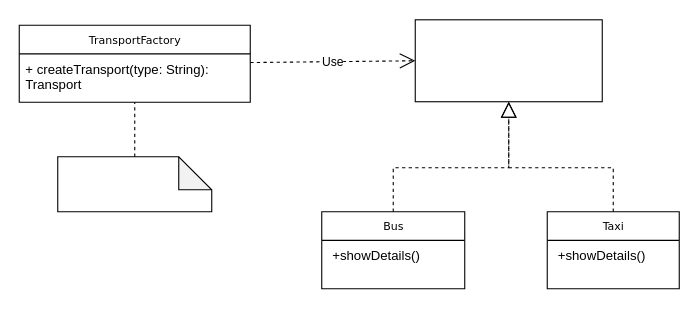
This 699x310 diagram has some shape labels left out. The centre of each missing label's shape, as x and y in pixels:
"<<Interface>> Transport +showDetails(): void" goes at pixel 508 60.
"retrun new Bus() return new Taxi()" goes at pixel 134 184.
